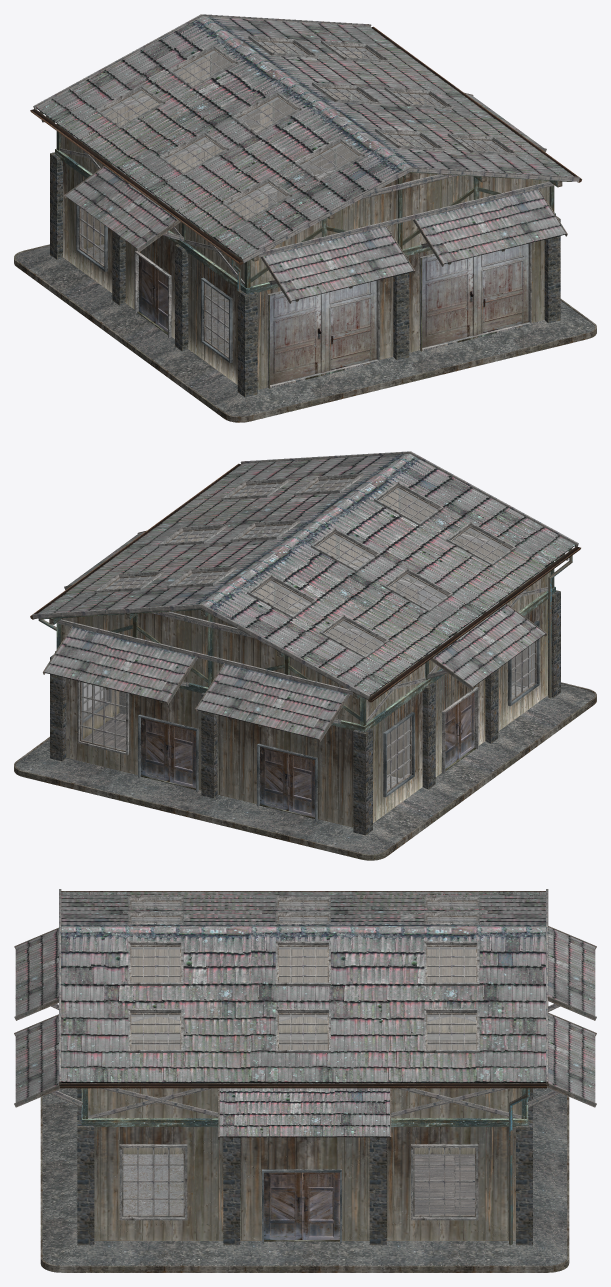
File: wood_house_B.FBX
3 views of the same model, one above another, from view 1: azimuth 30°, elevation 25°; view 2: azimuth 150°, elevation 25°; view 3: azimuth 270°, elevation 25° (orthographic). The views are drawn at different scales.
Visible parts, largest first — view 1: wood_house_B, vrata_25x40_A02, vrata_25x40_A01, vrata_25x40_A, vrata_25x40_A03, window02, window01, window17, window15, window16, window18, window13 (+3 smaller); view 2: wood_house_B, window05, stodola_door_A06, stodola_door_A10, stodola_door_A07, stodola_door_A11, window01, window02, window16, window17, window15, window18 (+4 smaller); view 3: wood_house_B, window04, window03, stodola_door_A, stodola_door_A01, window12, window11, window10, window09, window08, window07.
Boxes of the visible parts, x1,y1,x2,y2 form: wood_house_B: (14, 14, 596, 422); vrata_25x40_A02: (321, 280, 376, 372); vrata_25x40_A01: (473, 243, 528, 335); vrata_25x40_A: (422, 256, 473, 347); vrata_25x40_A03: (270, 293, 321, 384); window02: (204, 282, 228, 358); window01: (79, 207, 104, 267); window17: (164, 135, 224, 172); window15: (299, 141, 360, 178); window16: (100, 89, 160, 125); window18: (227, 181, 287, 218); window13: (173, 48, 233, 85); wood_house_B: (14, 451, 596, 860); window05: (80, 681, 125, 752); stodola_door_A06: (260, 746, 288, 810); stodola_door_A10: (141, 717, 169, 781); stodola_door_A07: (288, 753, 314, 817); stodola_door_A11: (169, 724, 195, 788); window01: (387, 716, 411, 792); window02: (511, 641, 536, 701); window16: (324, 619, 384, 655); window17: (387, 572, 447, 608); window15: (378, 486, 438, 522); window18: (451, 526, 511, 562); wood_house_B: (14, 889, 596, 1272); window04: (413, 1148, 476, 1217); window03: (122, 1148, 185, 1217); stodola_door_A: (264, 1172, 301, 1239); stodola_door_A01: (302, 1172, 339, 1239); window12: (426, 945, 477, 982); window11: (277, 945, 328, 982); window10: (130, 945, 181, 982); window09: (130, 1013, 181, 1049); window08: (277, 1013, 328, 1049); window07: (426, 1013, 477, 1049).
Size of the model in its own units: 189 by 199 by 91.29.
